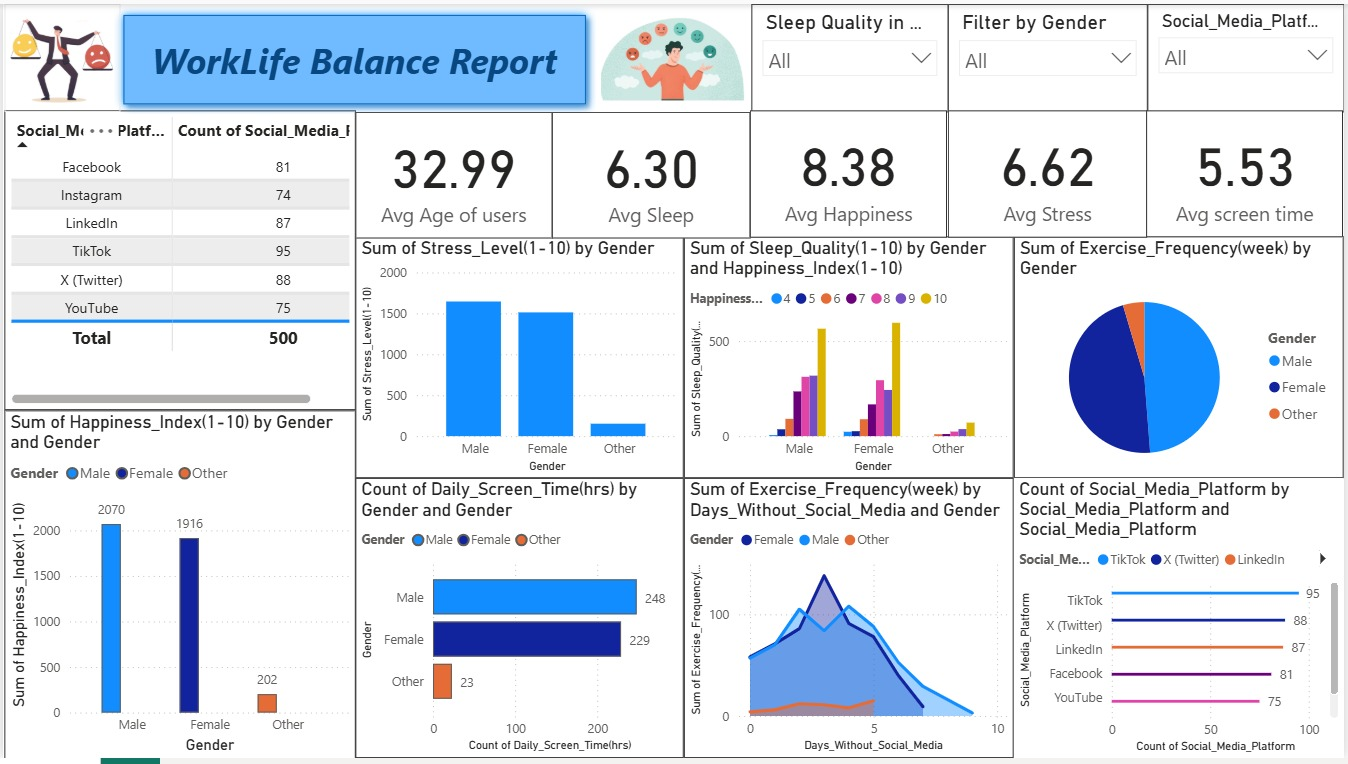

This screenshot's page, from the dashboard's own definition file:
{"tool":"powerbi","page":{"name":"Page 1","canvas":[1280,720],"ordinal":0},"visuals":[{"type":"tableEx","fields":{"Values":["Mental_Health_and_Social_Media_Balance_Dataset.Social_Media_Platform1","Mental_Health_and_Social_Media_Balance_Dataset.Social_Media_Platform"]},"box":[1.6,101.8,335.6,286.3],"z":0},{"type":"shape","box":[106.6,1.6,459.7,103.4],"z":1000},{"type":"barChart","fields":{"Category":["Mental_Health_and_Social_Media_Balance_Dataset.Gender"],"Y":["CountNonNull(Mental_Health_and_Social_Media_Balance_Dataset.Daily_Screen_Time(hrs))"],"Series":["Mental_Health_and_Social_Media_Balance_Dataset.Gender"]},"box":[337.2,453.3,313.4,267.2],"z":2000},{"type":"areaChart","fields":{"Category":["Mental_Health_and_Social_Media_Balance_Dataset.Days_Without_Social_Media"],"Y":["Sum(Mental_Health_and_Social_Media_Balance_Dataset.Exercise_Frequency(week))"],"Series":["Mental_Health_and_Social_Media_Balance_Dataset.Gender"]},"box":[650.6,453.3,314.9,267.2],"z":3000},{"type":"clusteredColumnChart","fields":{"Y":["Sum(Mental_Health_and_Social_Media_Balance_Dataset.Happiness_Index(1-10))"],"Category":["Mental_Health_and_Social_Media_Balance_Dataset.Gender"],"Series":["Mental_Health_and_Social_Media_Balance_Dataset.Gender"]},"box":[1.6,388.1,335.6,332.4],"z":4000},{"type":"columnChart","fields":{"Category":["Mental_Health_and_Social_Media_Balance_Dataset.Gender"],"Y":["Sum(Mental_Health_and_Social_Media_Balance_Dataset.Stress_Level(1-10))"]},"box":[337.2,222.7,313.4,230.6],"z":5000},{"type":"clusteredColumnChart","fields":{"Y":["Sum(Mental_Health_and_Social_Media_Balance_Dataset.Sleep_Quality(1-10))"],"Category":["Mental_Health_and_Social_Media_Balance_Dataset.Gender"],"Series":["Mental_Health_and_Social_Media_Balance_Dataset.Happiness_Index(1-10)"]},"box":[650.6,222.7,314.9,230.6],"z":6000},{"type":"slicer","fields":{"Values":["Mental_Health_and_Social_Media_Balance_Dataset.Gender"]},"box":[901.9,0,190.9,103.4],"z":7000},{"type":"slicer","fields":{"Values":["Mental_Health_and_Social_Media_Balance_Dataset.Social_Media_Platform"]},"box":[1092.7,0,187.7,103.4],"z":8000},{"type":"card","fields":{"Values":["Mental_Health_and_Social_Media_Balance_Dataset.Avg screen time"]},"box":[1092.2,102,188.2,121.6],"z":9000},{"type":"pieChart","fields":{"Y":["Sum(Mental_Health_and_Social_Media_Balance_Dataset.Exercise_Frequency(week))"],"Category":["Mental_Health_and_Social_Media_Balance_Dataset.Gender"]},"box":[965.5,222.7,314.9,230.6],"z":10000},{"type":"slicer","fields":{"Values":["Mental_Health_and_Social_Media_Balance_Dataset.Sleep_Quality(1-10)"]},"box":[714.2,0,187.7,103.4],"z":11000},{"type":"card","fields":{"Values":["Mental_Health_and_Social_Media_Balance_Dataset.Avg Age of users"]},"box":[337.2,103.4,187.7,120.9],"z":12000},{"type":"card","fields":{"Values":["Mental_Health_and_Social_Media_Balance_Dataset.Avg Stress"]},"box":[902,102,190.2,121.6],"z":13000},{"type":"card","fields":{"Values":["Mental_Health_and_Social_Media_Balance_Dataset.Avg Happiness"]},"box":[713.7,102,188.2,121.6],"z":14000},{"type":"card","fields":{"Values":["Mental_Health_and_Social_Media_Balance_Dataset.Avg Sleep"]},"box":[524.9,103.4,189.3,120.9],"z":15000},{"type":"clusteredBarChart","fields":{"Category":["Mental_Health_and_Social_Media_Balance_Dataset.Social_Media_Platform"],"Y":["CountNonNull(Mental_Health_and_Social_Media_Balance_Dataset.Social_Media_Platform)"],"Series":["Mental_Health_and_Social_Media_Balance_Dataset.Social_Media_Platform"]},"box":[965.5,453.3,314.5,266.7],"z":16000},{"type":"image","box":[1.6,0,109.8,103.4],"z":16001},{"type":"image","box":[566.3,1.6,147.9,100.2],"z":16002}]}

Visuals, with their boxes in screenshot pixels (x1, y1, x2, y2), scaled from the page's 1280x720 canvas onto the 1348x764 screenshot:
tableEx - Mental_Health_and_Social_Media_Balance_Dataset.Social_Media_Platform1 x Mental_Health_and_Social_Media_Balance_Dataset.Social_Media_Platform: select_region(2, 108, 355, 412)
shape: select_region(112, 2, 596, 111)
barChart - Mental_Health_and_Social_Media_Balance_Dataset.Gender x CountNonNull(Mental_Health_and_Social_Media_Balance_Dataset.Daily_Screen_Time(hrs)): select_region(355, 481, 685, 763)
areaChart - Mental_Health_and_Social_Media_Balance_Dataset.Days_Without_Social_Media x Sum(Mental_Health_and_Social_Media_Balance_Dataset.Exercise_Frequency(week)): select_region(685, 481, 1017, 763)
clusteredColumnChart - Sum(Mental_Health_and_Social_Media_Balance_Dataset.Happiness_Index(1-10)) x Mental_Health_and_Social_Media_Balance_Dataset.Gender: select_region(2, 412, 355, 763)
columnChart - Mental_Health_and_Social_Media_Balance_Dataset.Gender x Sum(Mental_Health_and_Social_Media_Balance_Dataset.Stress_Level(1-10)): select_region(355, 236, 685, 481)
clusteredColumnChart - Sum(Mental_Health_and_Social_Media_Balance_Dataset.Sleep_Quality(1-10)) x Mental_Health_and_Social_Media_Balance_Dataset.Gender: select_region(685, 236, 1017, 481)
slicer - Mental_Health_and_Social_Media_Balance_Dataset.Gender: select_region(950, 0, 1151, 110)
slicer - Mental_Health_and_Social_Media_Balance_Dataset.Social_Media_Platform: select_region(1151, 0, 1347, 110)
card - Mental_Health_and_Social_Media_Balance_Dataset.Avg screen time: select_region(1150, 108, 1347, 237)
pieChart - Sum(Mental_Health_and_Social_Media_Balance_Dataset.Exercise_Frequency(week)) x Mental_Health_and_Social_Media_Balance_Dataset.Gender: select_region(1017, 236, 1347, 481)
slicer - Mental_Health_and_Social_Media_Balance_Dataset.Sleep_Quality(1-10): select_region(752, 0, 950, 110)
card - Mental_Health_and_Social_Media_Balance_Dataset.Avg Age of users: select_region(355, 110, 553, 238)
card - Mental_Health_and_Social_Media_Balance_Dataset.Avg Stress: select_region(950, 108, 1150, 237)
card - Mental_Health_and_Social_Media_Balance_Dataset.Avg Happiness: select_region(752, 108, 950, 237)
card - Mental_Health_and_Social_Media_Balance_Dataset.Avg Sleep: select_region(553, 110, 752, 238)
clusteredBarChart - Mental_Health_and_Social_Media_Balance_Dataset.Social_Media_Platform x CountNonNull(Mental_Health_and_Social_Media_Balance_Dataset.Social_Media_Platform): select_region(1017, 481, 1347, 763)
image: select_region(2, 0, 117, 110)
image: select_region(596, 2, 752, 108)
